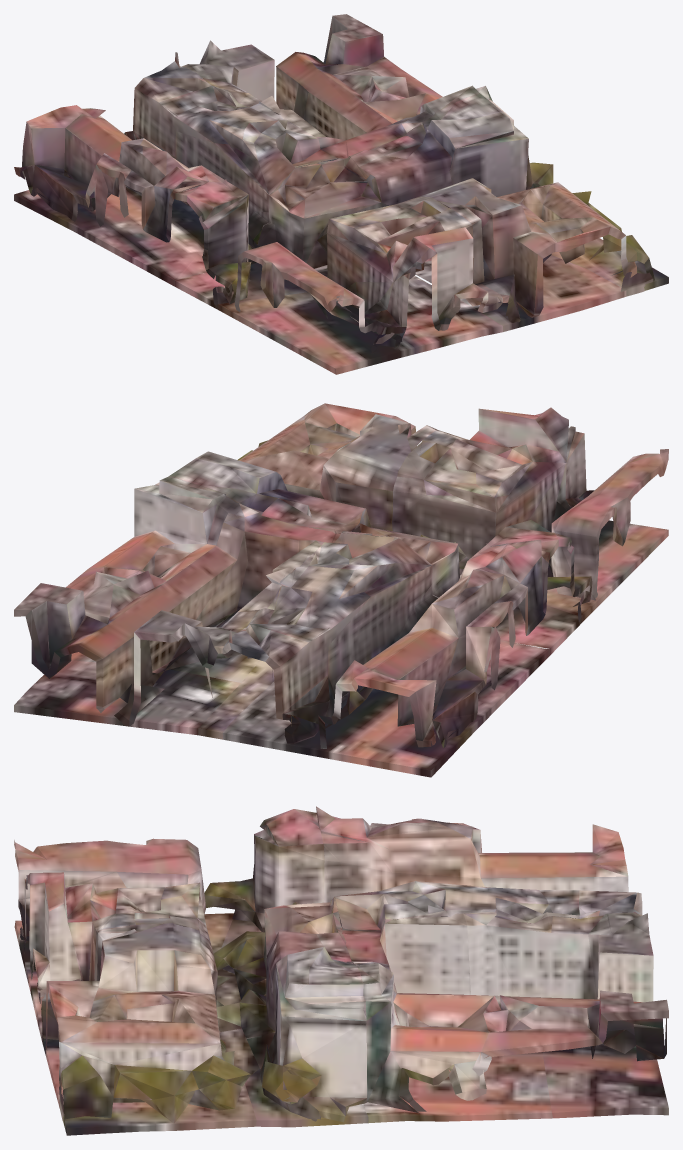
3 renders of one model, top to bottom at view 1: azimuth 30°, elevation 25°; view 2: azimuth 150°, elevation 25°; view 3: azimuth 270°, elevation 25°, orthographic. The views are drawn at different scales.
Visible parts, largest first — view 1: Mesh_0; view 2: Mesh_0; view 3: Mesh_0.
Boxes of the visible parts, x1,y1,x2,y2 form: Mesh_0: [14, 14, 668, 374]; Mesh_0: [14, 403, 668, 777]; Mesh_0: [14, 806, 668, 1135].
Bounding box in the file's own units: 133 × 37.09 × 165.
1 material, 1 textured.
